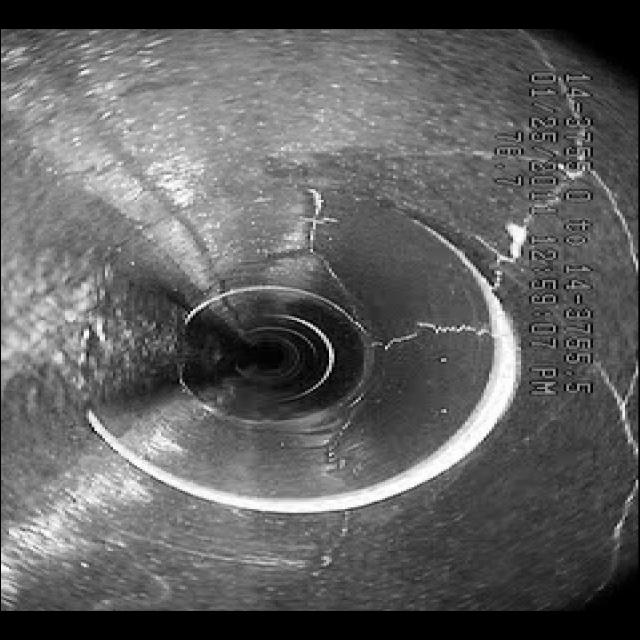Crack: (366, 316, 488, 364)
